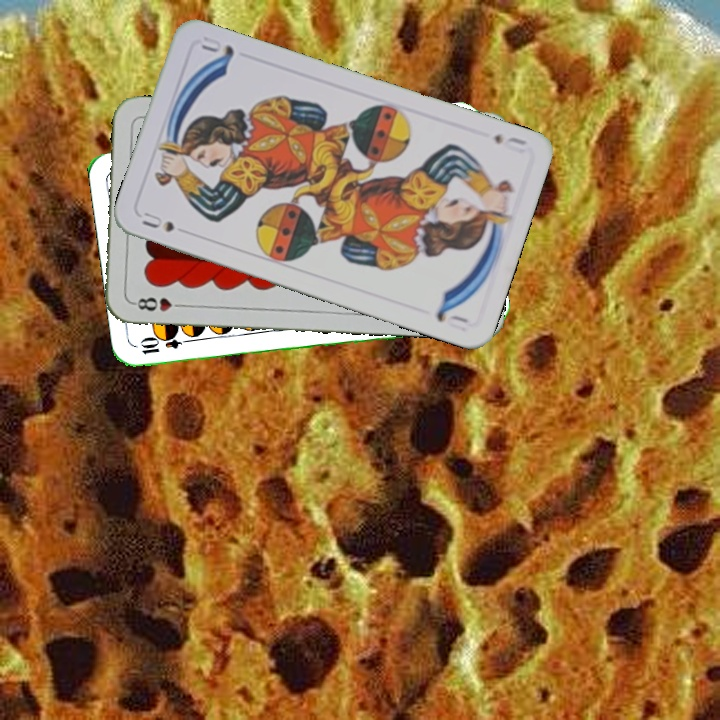E10: (136, 333, 195, 357)
H8: (129, 293, 188, 314)
SU: (138, 208, 194, 237), (490, 130, 530, 157)
